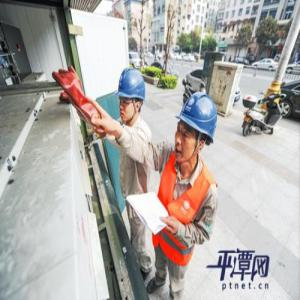blue: (175, 94, 216, 167), (118, 65, 147, 123)
